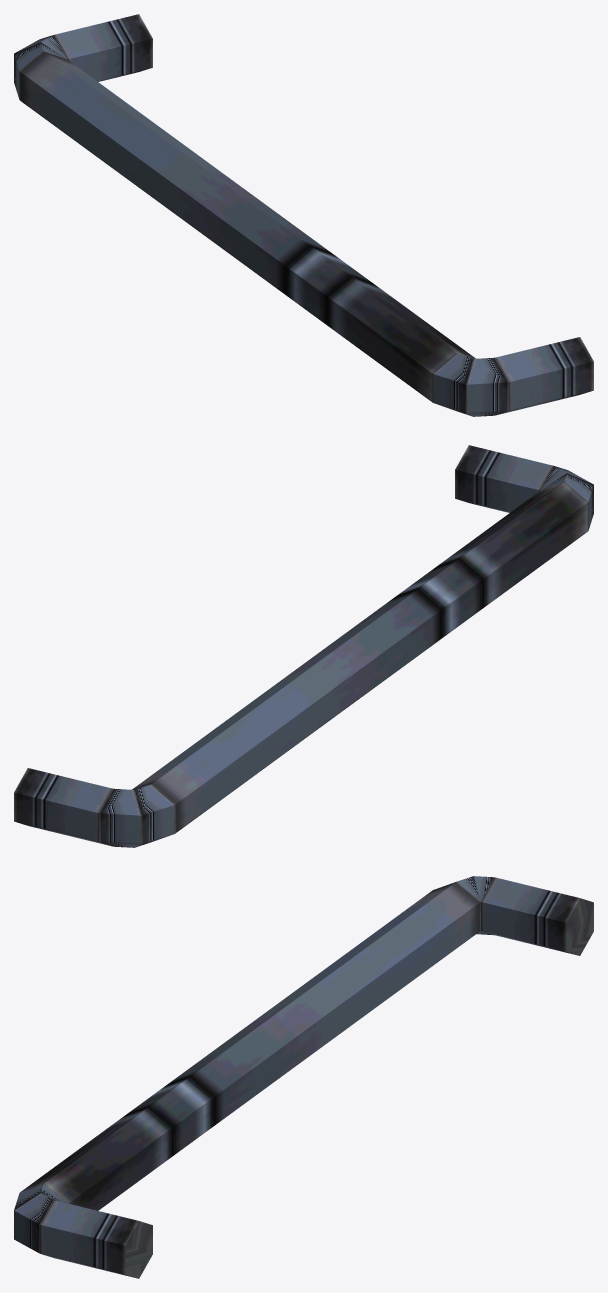
Rendered from pipe.fbx.
The picture shows the model from 3 angles, top to bottom: view 1: azimuth 30°, elevation 25°; view 2: azimuth 150°, elevation 25°; view 3: azimuth 330°, elevation 25°; orthographic projection.
Visible parts, largest first — view 1: pipe; view 2: pipe; view 3: pipe.
Part boxes in pixels (x1,y1,x2,y2): pipe: (14, 14, 593, 416); pipe: (14, 445, 593, 847); pipe: (14, 876, 593, 1278).
Size of the model in its own units: 0.6343 by 0.2634 by 3.86.
